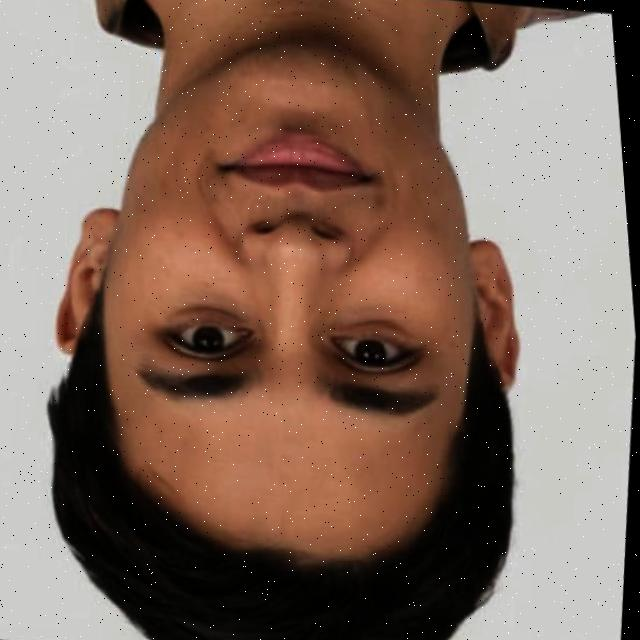puffy_eyes: (346, 316, 431, 344), (172, 306, 249, 329)
